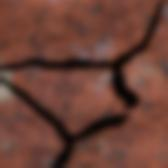brick: (2, 0, 167, 167), (0, 0, 156, 63), (0, 85, 63, 167)
crack: (0, 0, 166, 167)
